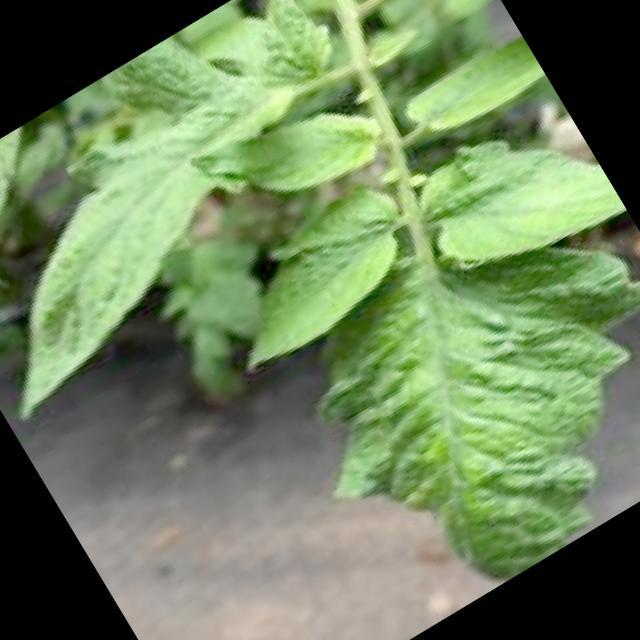Tomato healthy leaf: (249, 150, 640, 635), (26, 39, 297, 419), (198, 171, 438, 375), (404, 97, 628, 304), (203, 74, 396, 238), (400, 26, 547, 146), (228, 0, 346, 97)
